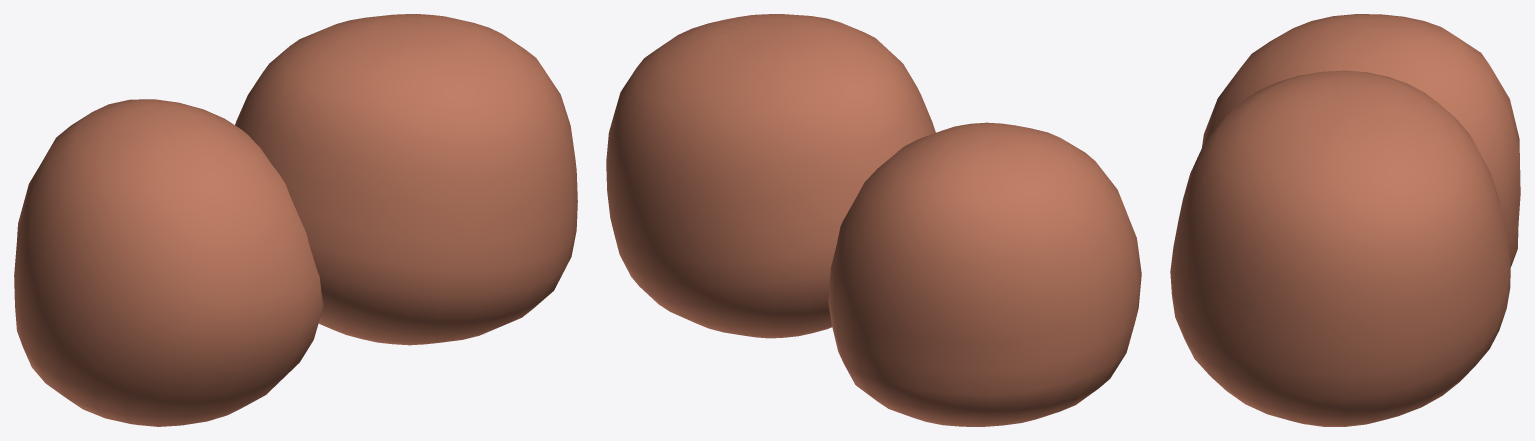
File: Shrub_Top_B_02.fbx
The picture shows the model from 3 angles, left to right: view 1: azimuth 30°, elevation 25°; view 2: azimuth 150°, elevation 25°; view 3: azimuth 270°, elevation 25°; orthographic projection. The views are drawn at different scales.
Visible parts, largest first — view 1: Shrub_Top_B_02_LOD0; view 2: Shrub_Top_B_02_LOD0; view 3: Shrub_Top_B_02_LOD0.
Part boxes in pixels (<box>): Shrub_Top_B_02_LOD0: <box>14,14,577,426</box>; Shrub_Top_B_02_LOD0: <box>606,14,1141,426</box>; Shrub_Top_B_02_LOD0: <box>1170,14,1520,426</box>.
Size of what is drawn, in the model's own units: 813 by 493 by 475.
